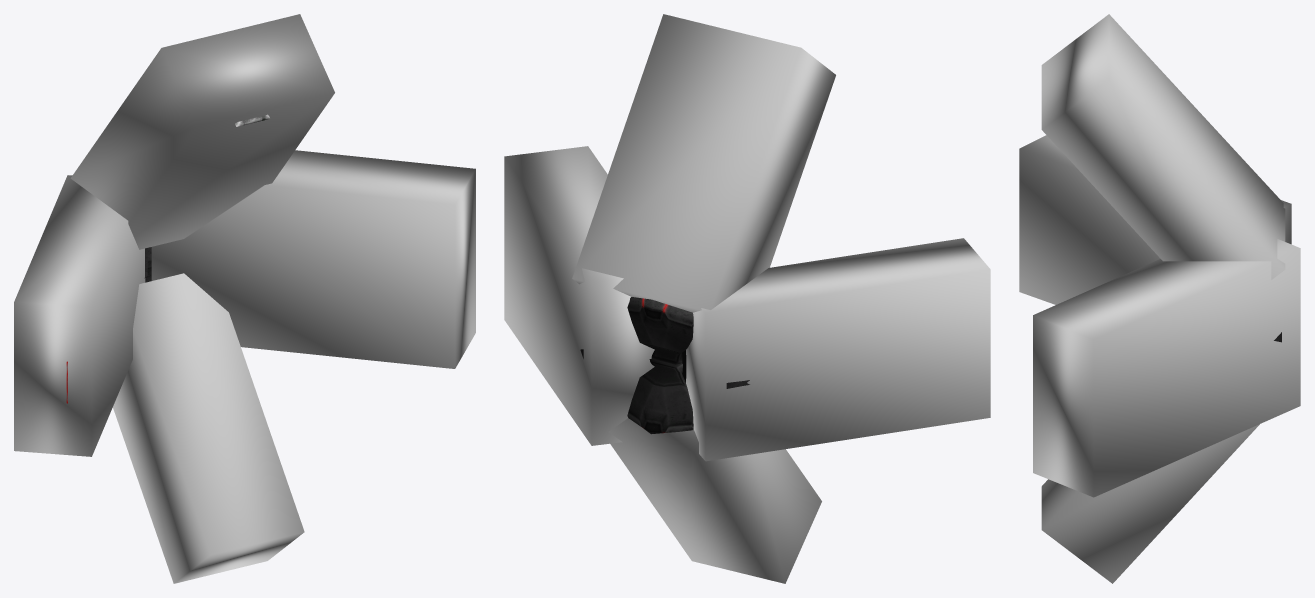
The model's file is pod_open.fbx.
The picture shows the model from 3 angles, left to right: view 1: azimuth 30°, elevation 25°; view 2: azimuth 150°, elevation 25°; view 3: azimuth 270°, elevation 25°; orthographic projection. The views are drawn at different scales.
Parts seen in each view (by area): view 1: proxy02, proxy04, proxy05, proxy03; view 2: proxy03, proxy05, proxy02, proxy04, Object02, Object04; view 3: proxy02, proxy05, proxy03, proxy04.
Boxes of the visible parts, x1,y1,x2,y2 form: proxy02: (151,150,475,368); proxy04: (113,273,304,583); proxy05: (70,14,334,249); proxy03: (14,175,145,456); proxy03: (686,238,990,461); proxy05: (572,14,835,312); proxy02: (504,146,654,445); proxy04: (608,418,821,583); Object02: (627,359,693,434); Object04: (627,297,693,364); proxy02: (1033,239,1300,497); proxy05: (1041,14,1285,279); proxy03: (1019,135,1291,304); proxy04: (1041,424,1259,583).
Size of the model in its own units: 5.76 by 6.27 by 3.08.
